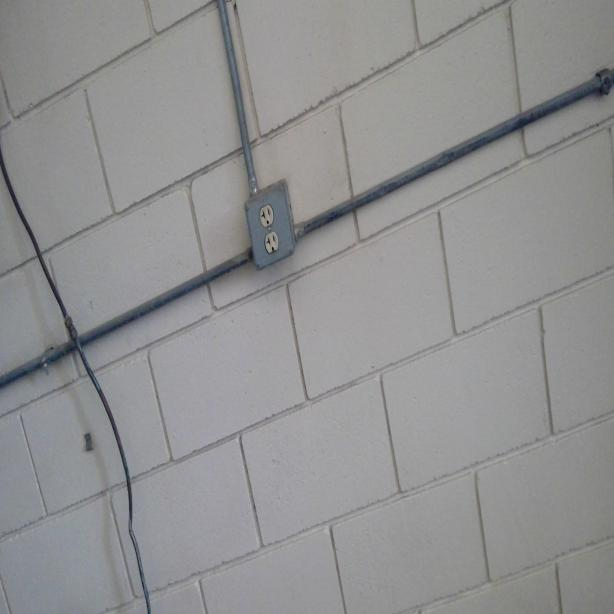typeb: (259, 203, 274, 227), (264, 232, 278, 254)
